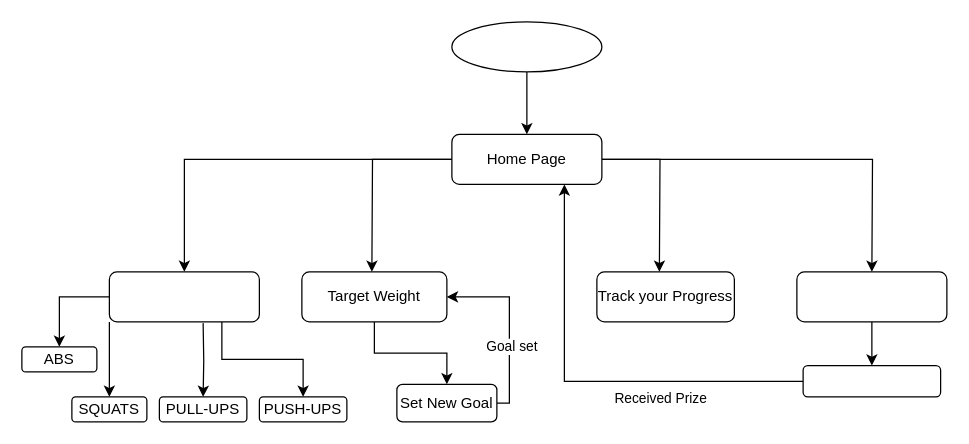
The diagram is 969 pixels wide and 444 high, and some of its shapes have lost their labels. The centre of each missing label's shape, as x and y in pixels:
"Log in to app" belongs at pixel 526 46.
"Prize" belongs at pixel 871 380.
"Spin the Wheel" belongs at pixel 871 296.
"Workout" belongs at pixel 183 296.
